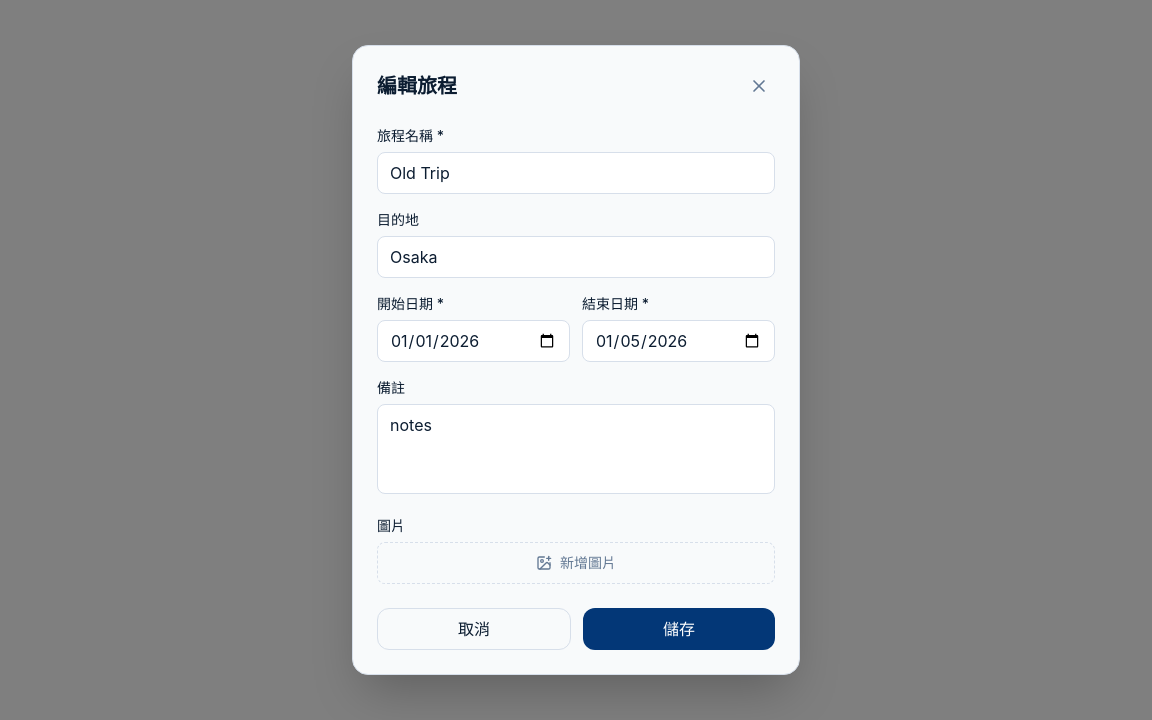
it: EditTripModal › shows a confirmation dialog listing impacted days when shrinking with initialContent provided
Type "2026-01-03" into the date field named "endDate" below "結束日期 *" at [678, 341], box top-left (582, 320), bottom-right (775, 362)
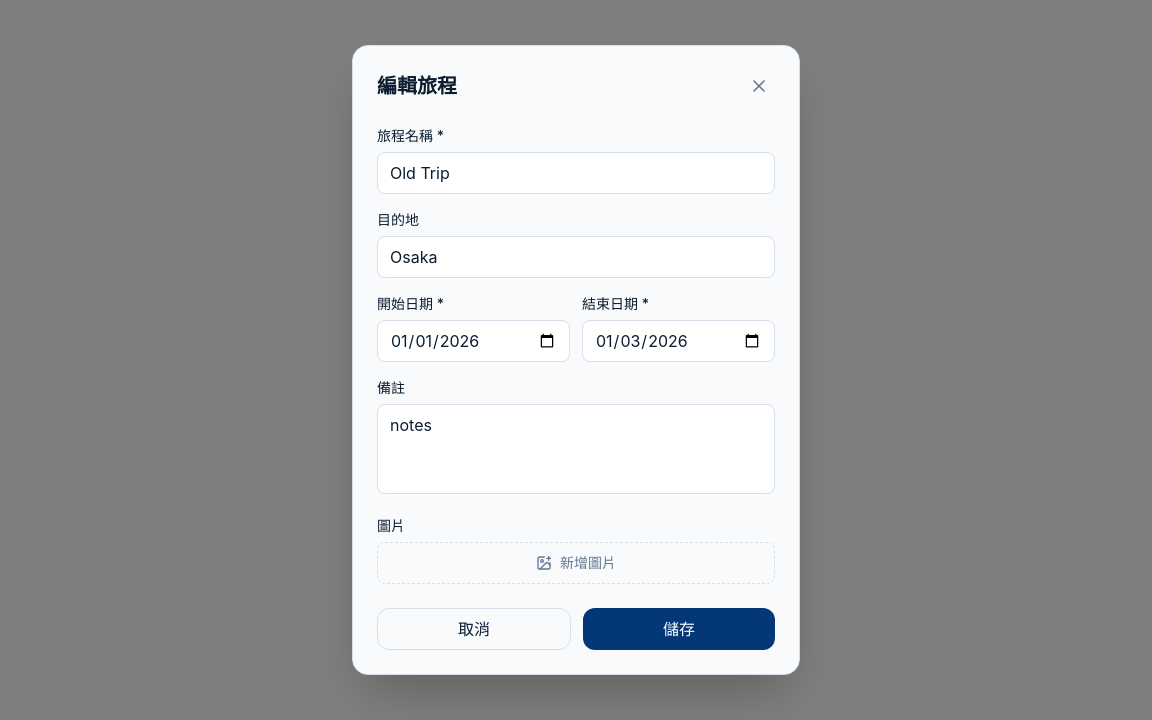
Submit the form, box top-left (377, 126), bottom-right (775, 650)
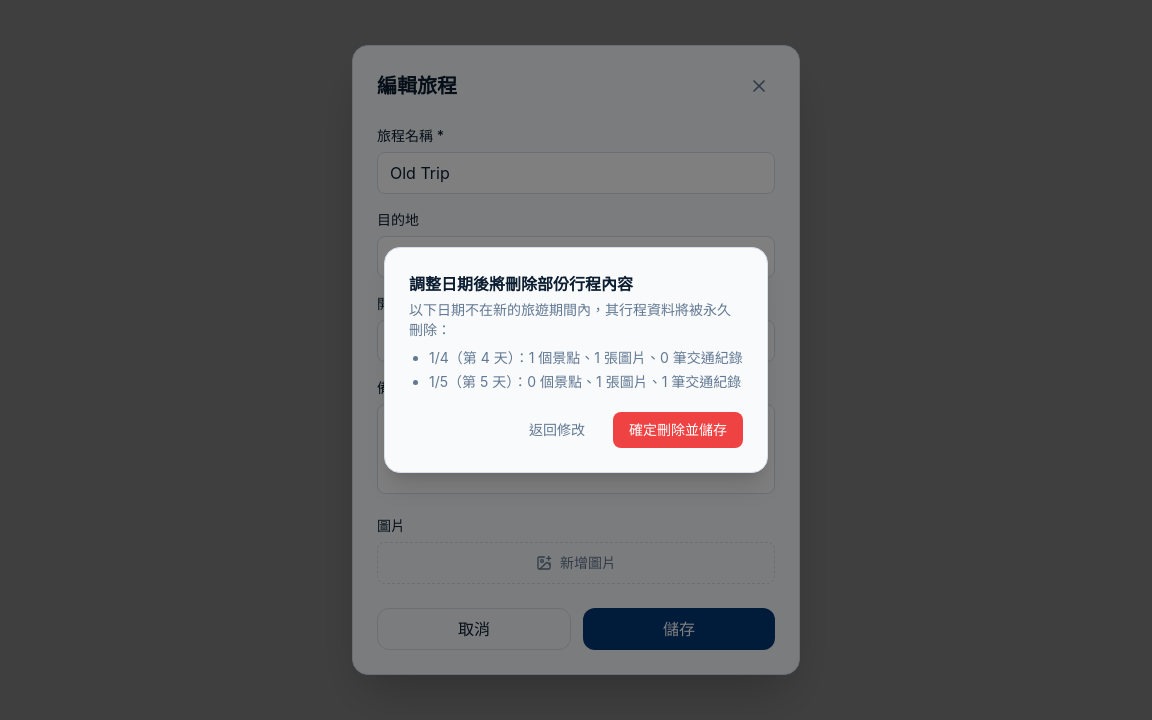
Check: the text "調整日期後將刪除部份行程內容" is shown, box top-left (409, 274), bottom-right (633, 294)
Check: the list item "1/4（第 4 天）：1 個景點、1 張圖片、0 筆交通紀錄" is shown, box top-left (429, 348), bottom-right (743, 368)
Check: the list item "1/5（第 5 天）：0 個景點、1 張圖片、1 筆交通紀錄" is shown, box top-left (429, 372), bottom-right (743, 392)
